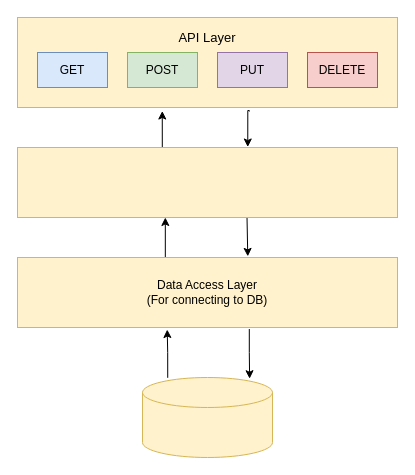
Some shapes in this 415 by 475 pixel diagram are drawn without their labels. The box of each missing label's shape, as (x1, y1, x2, y2) in pixels:
Database (PostgreSQL): (142, 376, 272, 458)
Service Layer (for business logic): (16, 146, 398, 218)
